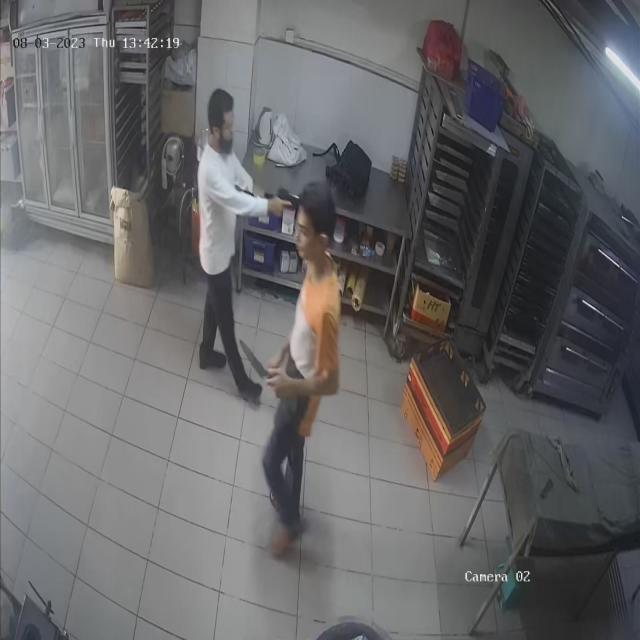Gun: (274, 186, 297, 216)
Knife: (231, 328, 283, 389)
